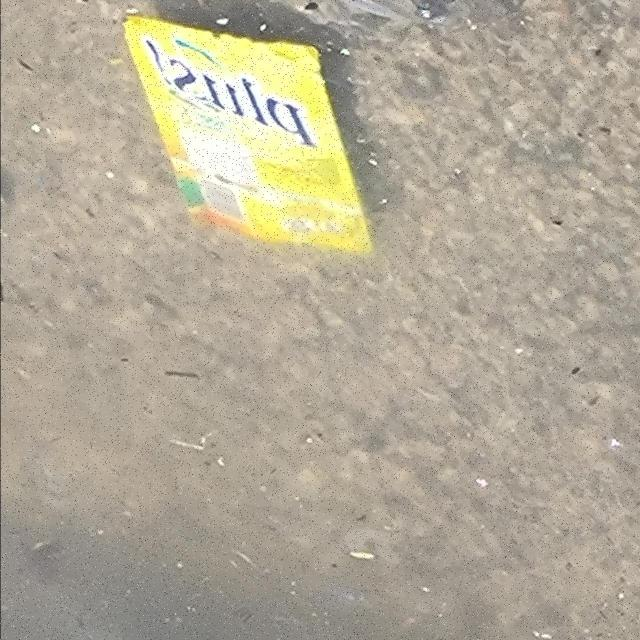plastic_waste: (122, 13, 378, 257)
